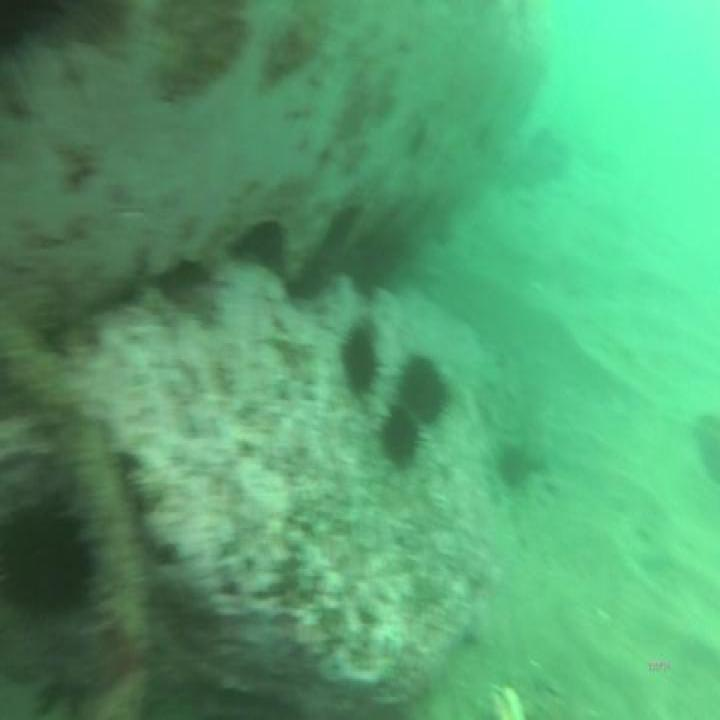echinus: (2, 501, 99, 624), (399, 348, 447, 432), (377, 398, 426, 470), (343, 320, 382, 405)
